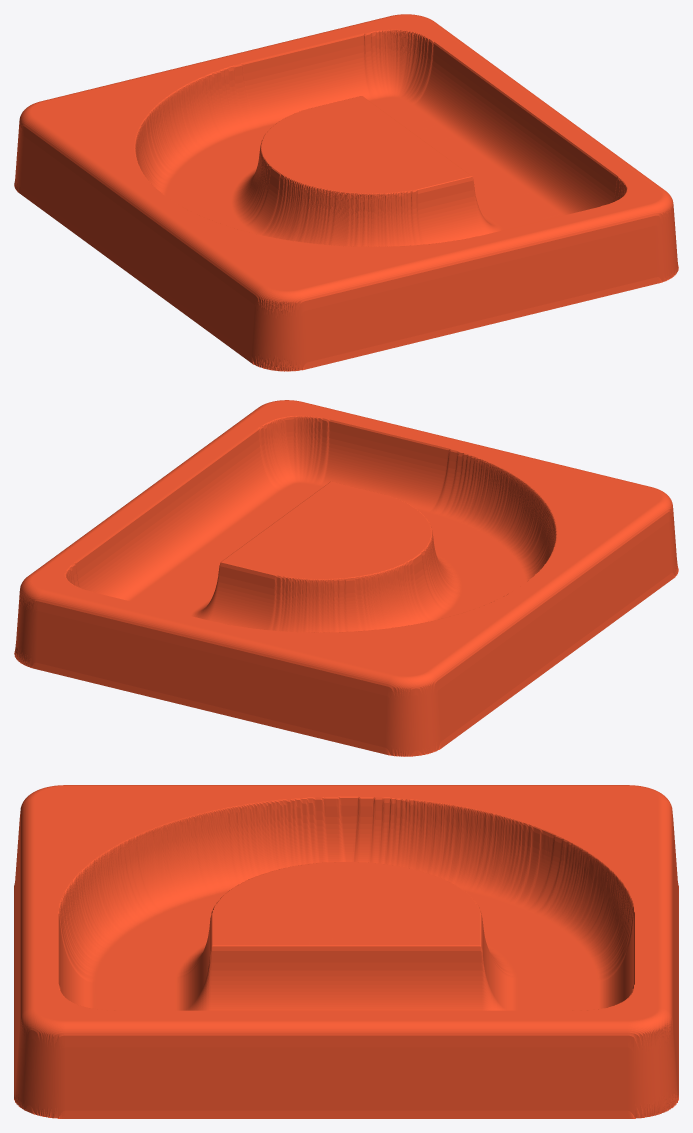
The model's file is mold.glb.
3 views of the same model, one above another, from view 1: azimuth 30°, elevation 25°; view 2: azimuth 150°, elevation 25°; view 3: azimuth 270°, elevation 25° (orthographic). The views are drawn at different scales.
Parts seen in each view (by area): view 1: geometry_0; view 2: geometry_0; view 3: geometry_0.
Part boxes in pixels (<box>): geometry_0: <box>14,14,678,371</box>; geometry_0: <box>14,400,678,756</box>; geometry_0: <box>14,785,678,1118</box>.
Size of the model in its own units: 0.1054 by 0.0175 by 0.1178.
